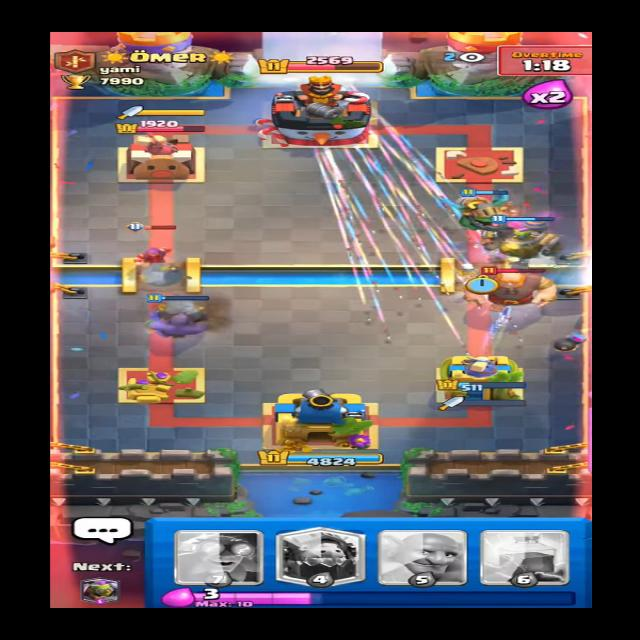arrows: (342, 194, 532, 353)
evo-wizard: (123, 220, 185, 271)
giant: (475, 262, 563, 314)
